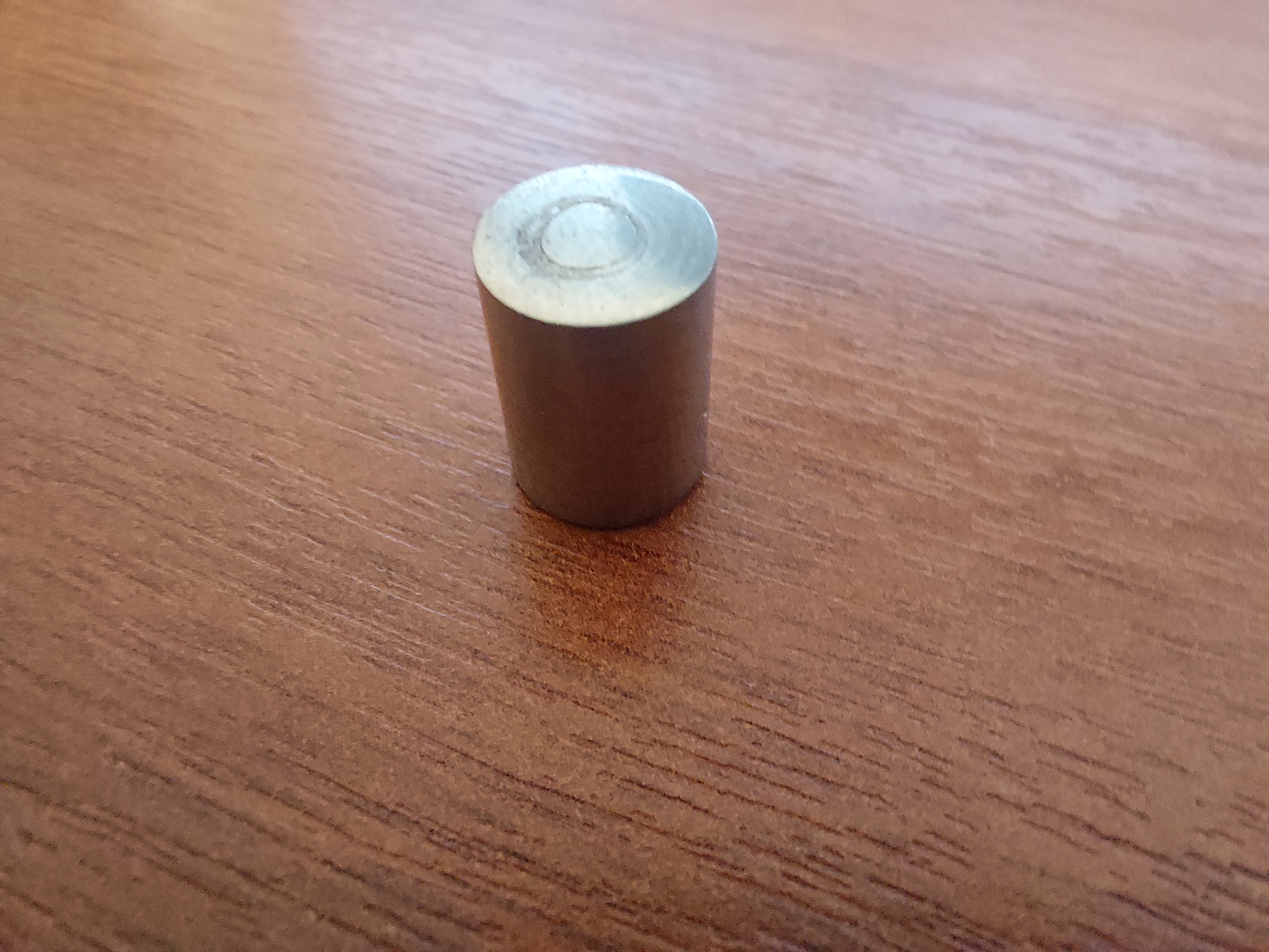tablet: (431, 124, 788, 546)
